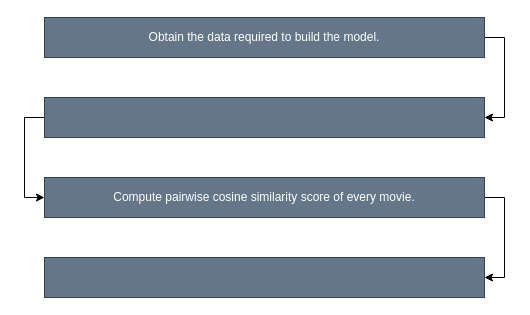
This 530x315 diagram has some shape labels left out. Here are the shapes that lost their labels. From the top down, the centre of each, then its label:
the point at 264,117: Create TF-IDF vectors for the Genre of every movie.
the point at 264,277: Create a function that takes title as input and output similar movies.
